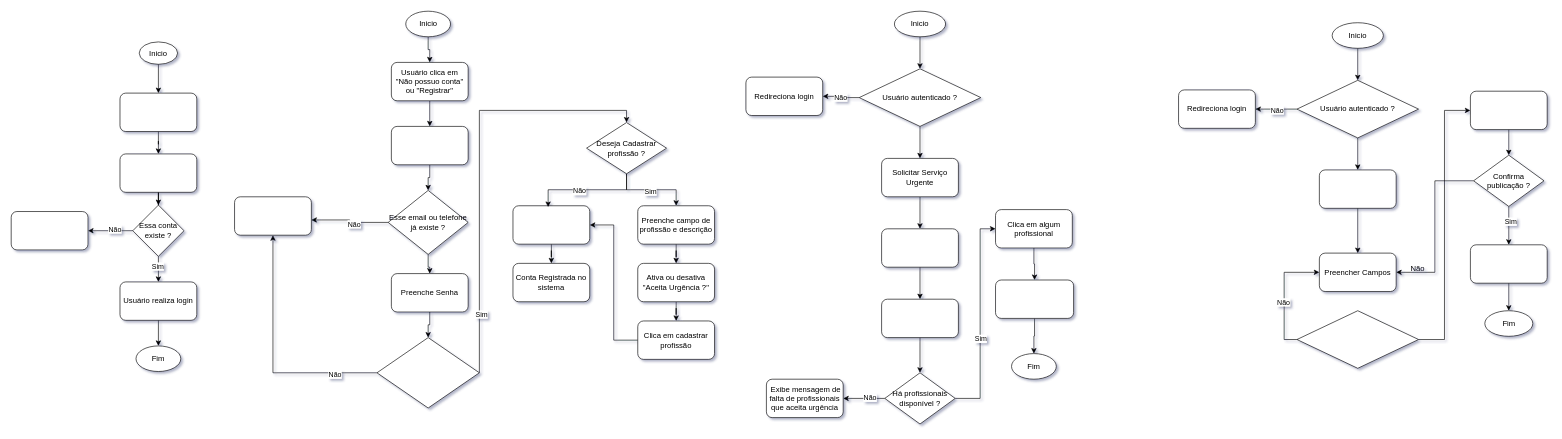
The diagram is 1562 pixels wide and 439 high, and some of its shapes have lost their labels. The shapes that lost their labels are listed below. From the top down, each one's box as (x1, y1, x2, y2) in pixels, then its label:
(119, 92, 197, 132): Preenche campo de e-mail ou telefone
(1470, 91, 1547, 130): Clica em Publicar Serviço
(391, 126, 468, 165): Preenche email e telefone
(119, 153, 197, 192): Preenche campo senha
(1319, 169, 1396, 208): Clica em Solicitar Serviço
(11, 211, 88, 250): Exibe Mensagem de Erro
(234, 196, 311, 235): Mensagem de erro
(512, 205, 590, 244): Clica em "Criar Conta"
(881, 228, 958, 267): Preenche nome, descrição e categoria
(1470, 244, 1547, 283): Serviço é publicado
(881, 299, 958, 338): Sistema lista profissionais que aceitam urgência
(995, 279, 1074, 318): Sistema fornece perfil com dados de contato
(1296, 310, 1419, 368): Campos Preechidos?
(376, 337, 479, 408): Senha possui mais 6 caracteres ?
